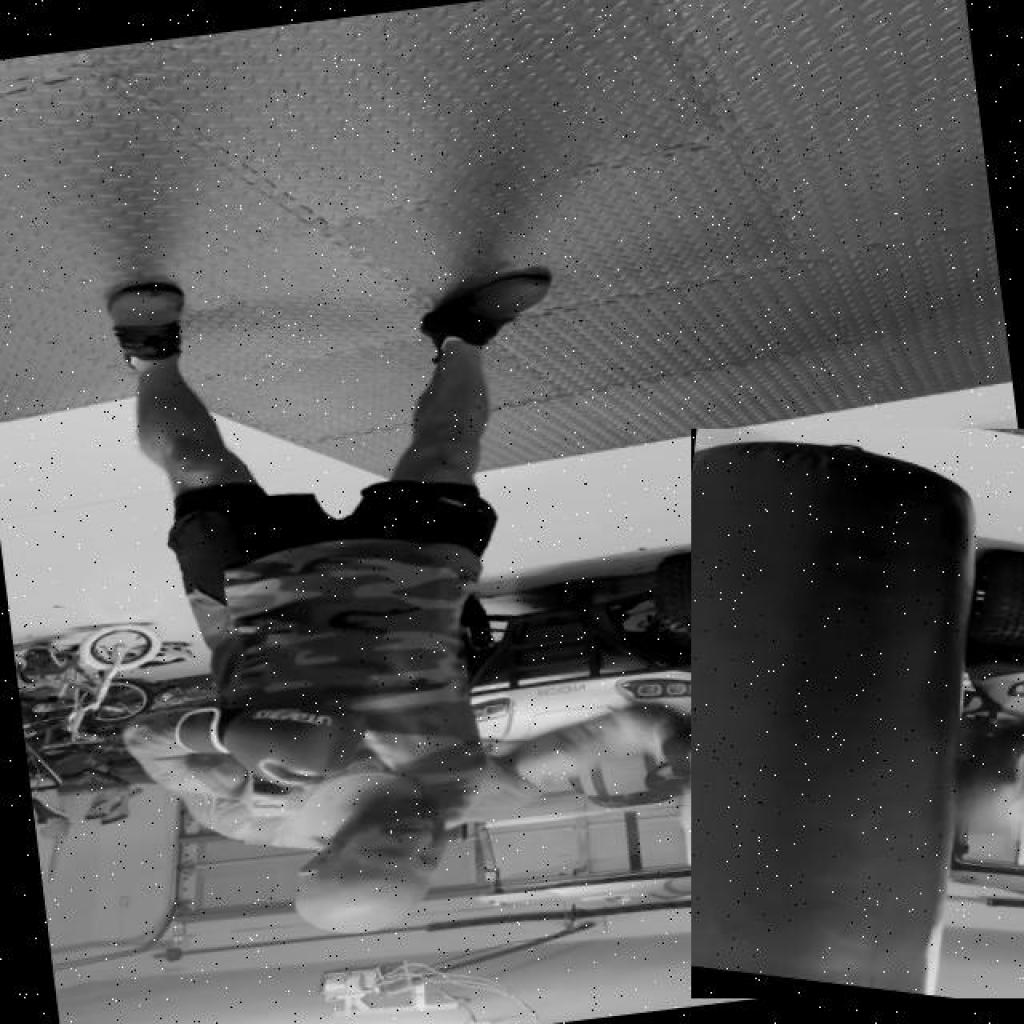bag: (691, 429, 1024, 998)
uppercut: (125, 624, 798, 976)
